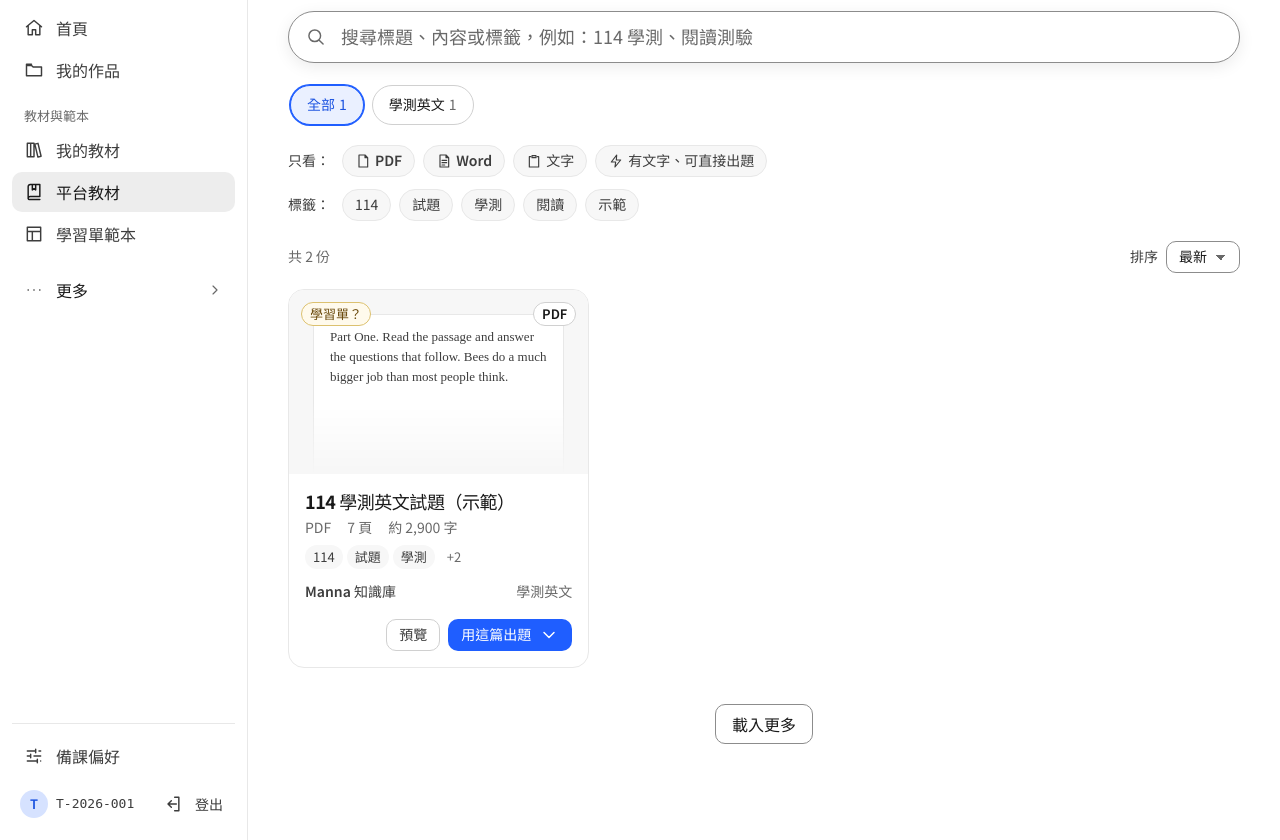
Test case: 平台教材 (/reference) › 載入更多 asks with the cursor and adds the next cards
(page scrolled)
Expected: the element named "114 學測英文試題（示範）" is shown, [288,289,589,668]
Click the button "載入更多" at x=764, y=724, box [715,704,813,744]
(page scrolled)
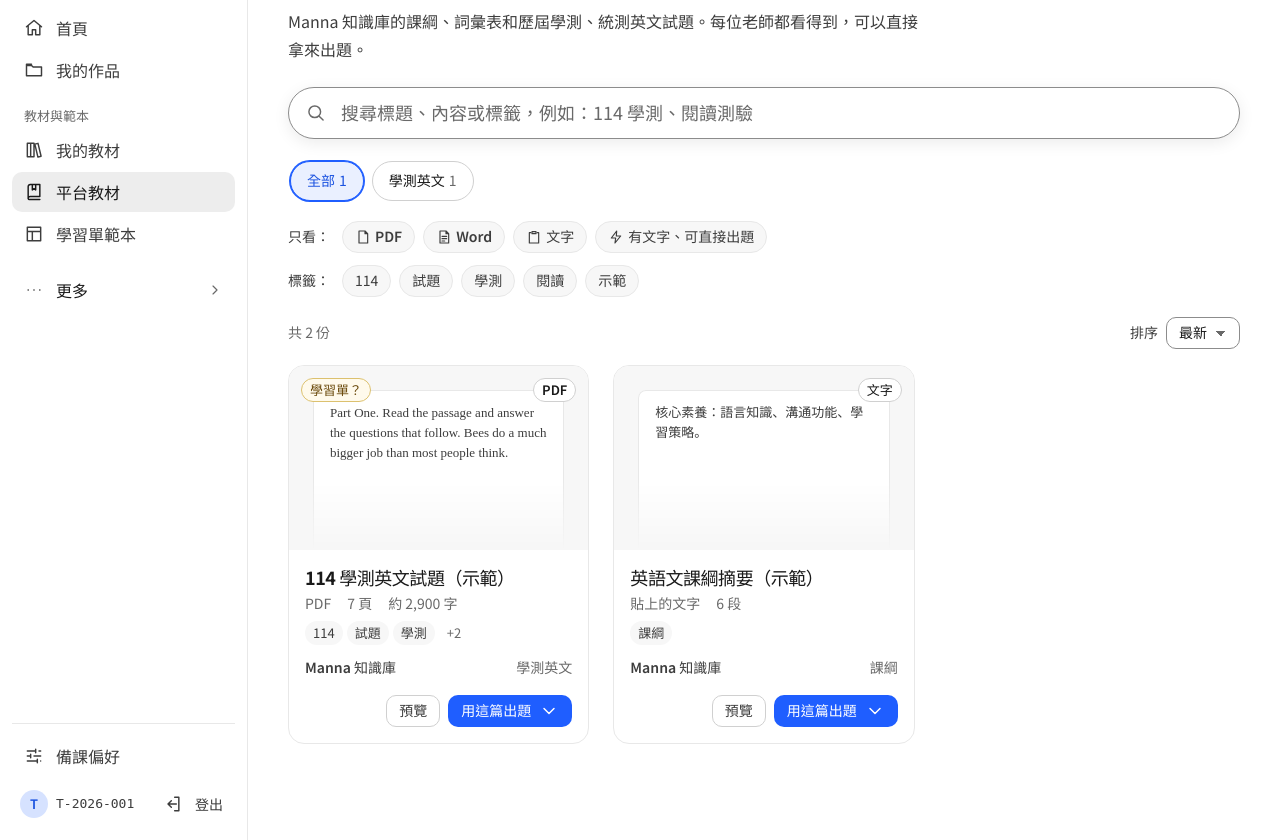
Expected: the element named "114 學測英文試題（示範）" is shown, [288,365,589,744]
Now the element "英語文課綱摘要（示範）" is shown, box [613,365,915,744]
Now the button "載入更多" is gone
